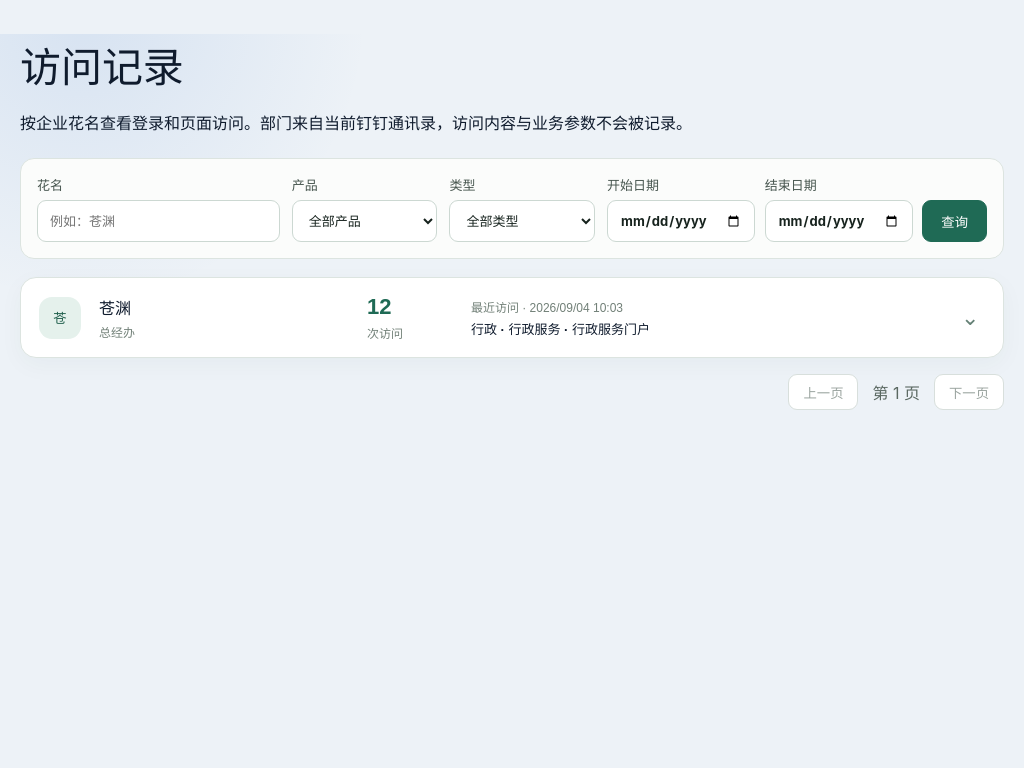
Test: AccessHistoryPage › indexes people by nickname and current department before loading details
Click the button "苍 苍渊 总经办 12 次访问 最近访问 · 2026/09/04 10:03 行政 · 行政服务 · 行政服务门户 ⌄" at (512, 318), box x1=21 y1=278 x2=1003 y2=357
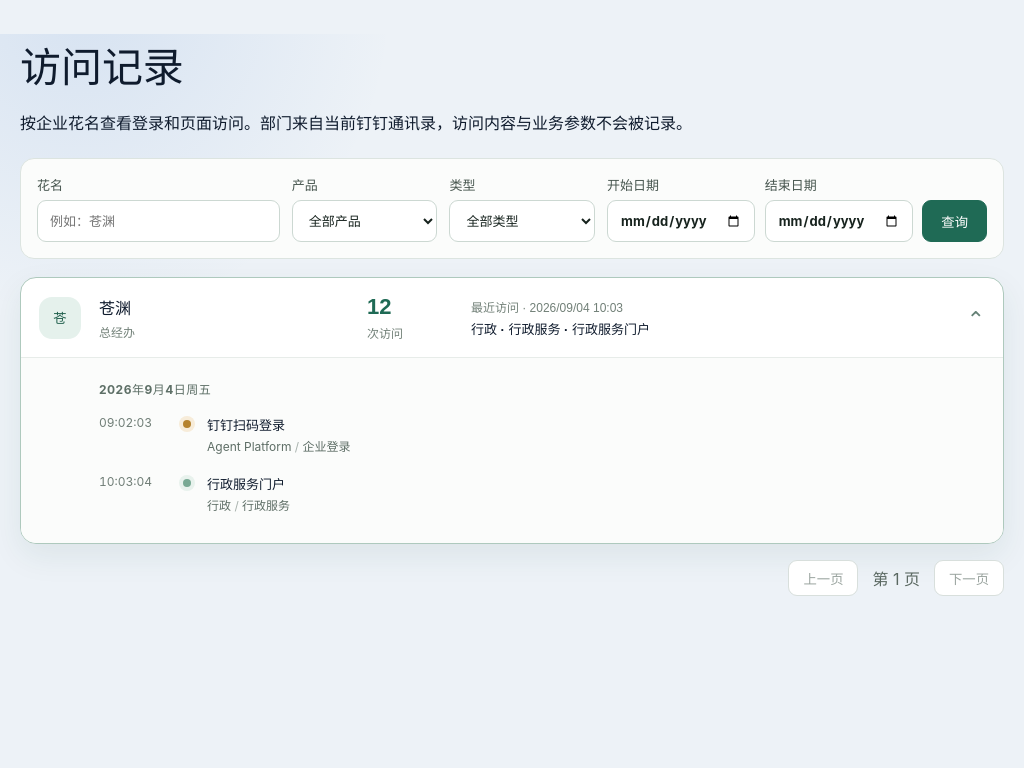
Result: the text "钉钉扫码登录" is shown at x1=207 y1=417 x2=285 y2=433
Result: the text "Agent Platform" is shown at x1=207 y1=439 x2=292 y2=454
